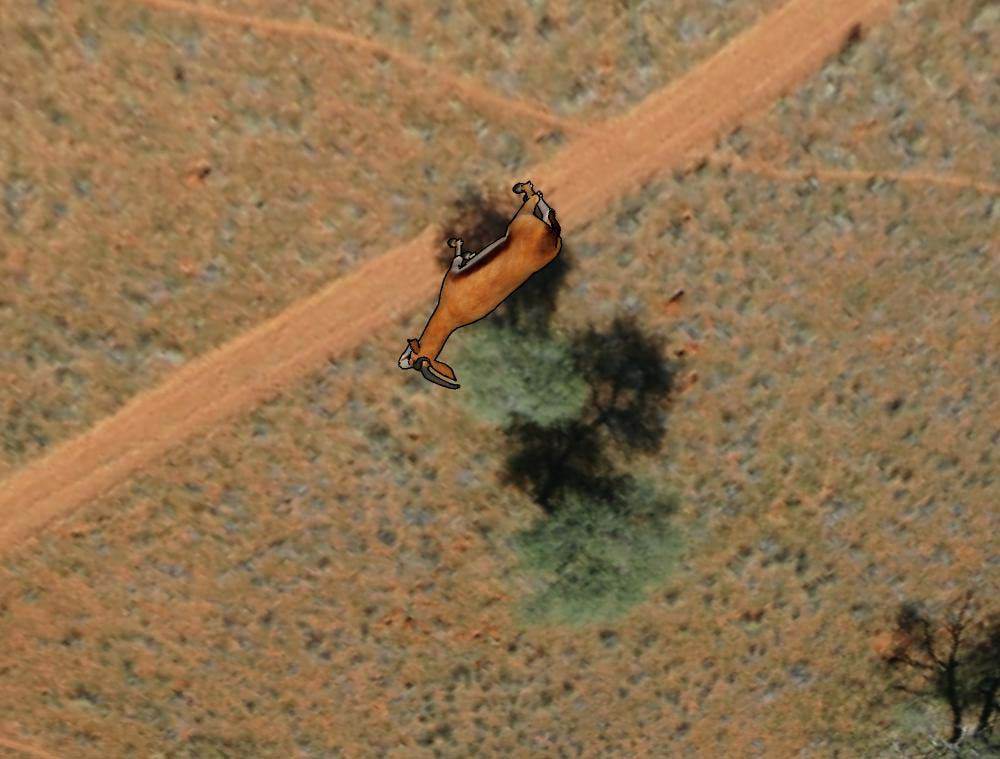springbok: (395, 179, 564, 391)
